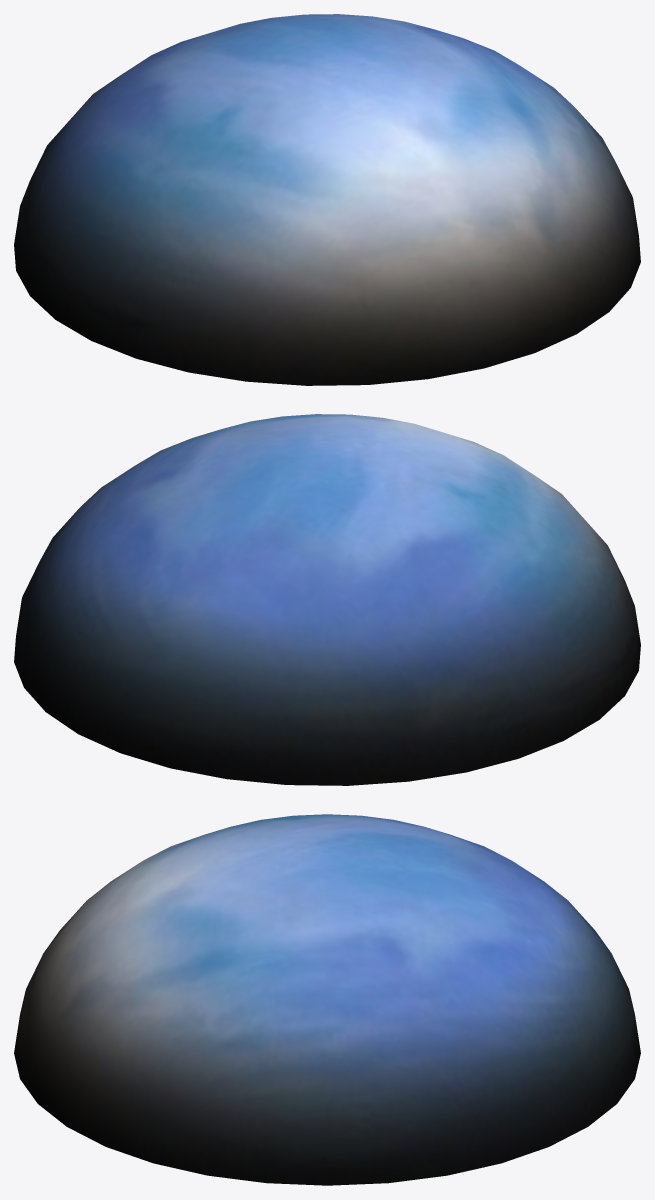
Rendered from sky_model.FBX.
3 views of the same model, one above another, from view 1: azimuth 30°, elevation 25°; view 2: azimuth 150°, elevation 25°; view 3: azimuth 270°, elevation 25° (orthographic).
Parts seen in each view (by area): view 1: sky_dome; view 2: sky_dome; view 3: sky_dome.
Part boxes in pixels (box(x1,y1,x2,y2)): sky_dome: box(14, 14, 640, 385); sky_dome: box(14, 414, 640, 785); sky_dome: box(14, 814, 640, 1185).
Bounding box in the file's own units: 100 × 35 × 100.
2 materials, 2 textured.
